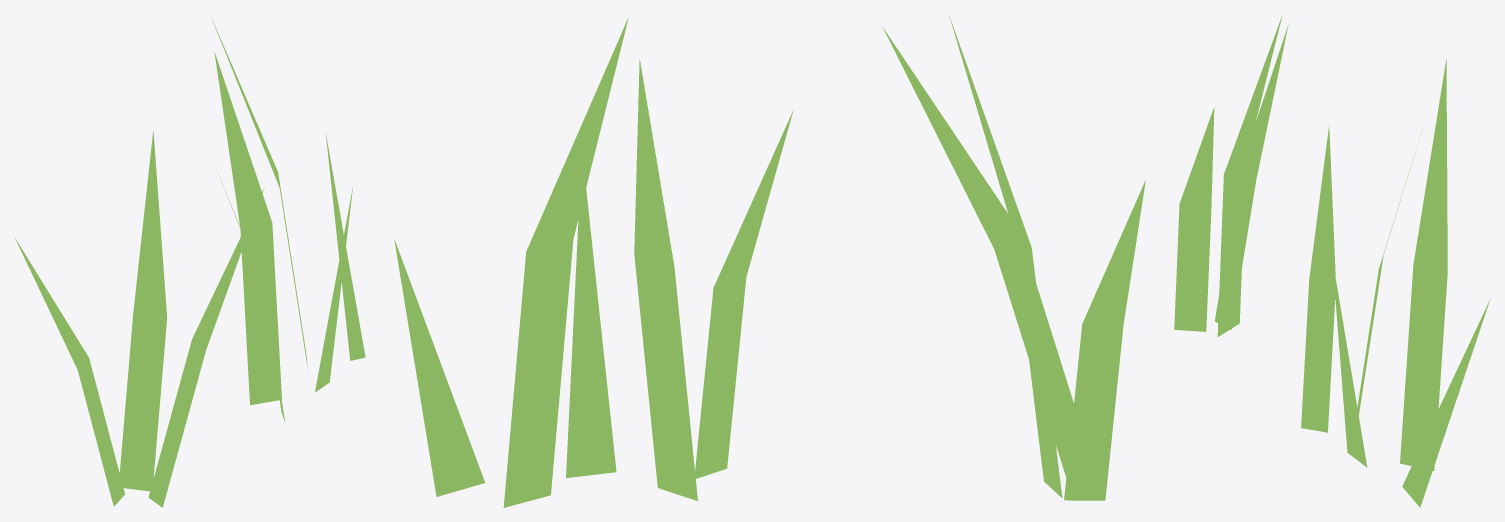
File: Grass_b_TwoS_05.fbx
The picture shows the model from 3 angles, left to right: view 1: azimuth 30°, elevation 25°; view 2: azimuth 150°, elevation 25°; view 3: azimuth 270°, elevation 25°; orthographic projection. The views are drawn at different scales.
Parts seen in each view (by area): view 1: Grass_b_TwoS_05; view 2: Grass_b_TwoS_05; view 3: Grass_b_TwoS_05.
Part boxes in pixels (<box>): Grass_b_TwoS_05: <box>15,17,365,507</box>; Grass_b_TwoS_05: <box>394,16,1145,507</box>; Grass_b_TwoS_05: <box>1174,15,1490,507</box>.
Size of the model in its own units: 0.5634 by 0.4782 by 0.3626.
